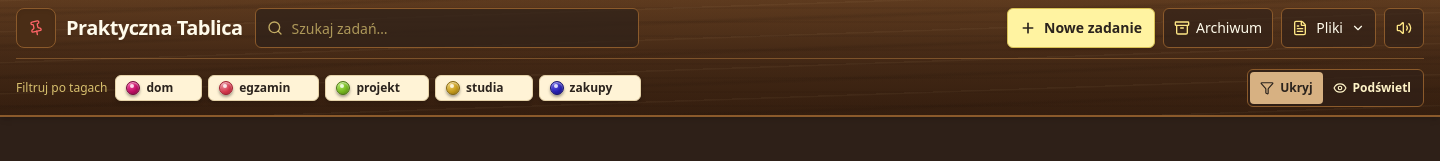
Milestone M3 — TopBar, TaskModal, ContextMenu & Toast › TopBar component › exports tasks to zadania.json with strict 7-field schema and shows feedback toast
This screenshot has width=1440, height=161.
Click the button with test id "btn-files-menu" at (1329, 28), box [1281,8,1376,48]
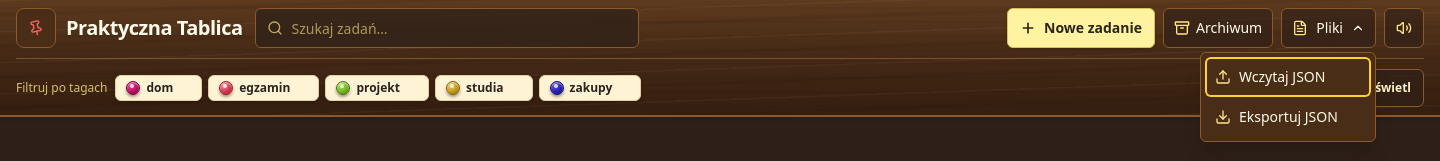
Click the menu item with test id "btn-export-json" at (1288, 117), box [1207,99,1369,135]
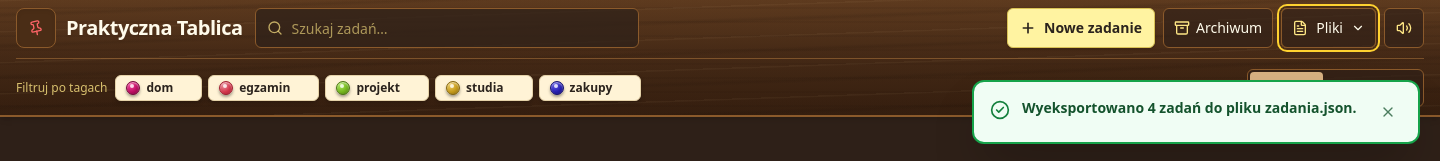
Expected: the button with test id "btn-files-menu" is collapsed, [1281,8,1376,48]
Expected: the message with test id "toast-notification" shows "Wyeksportowano 4 zadań do pliku zadania.json", [1022,98,1356,117]
